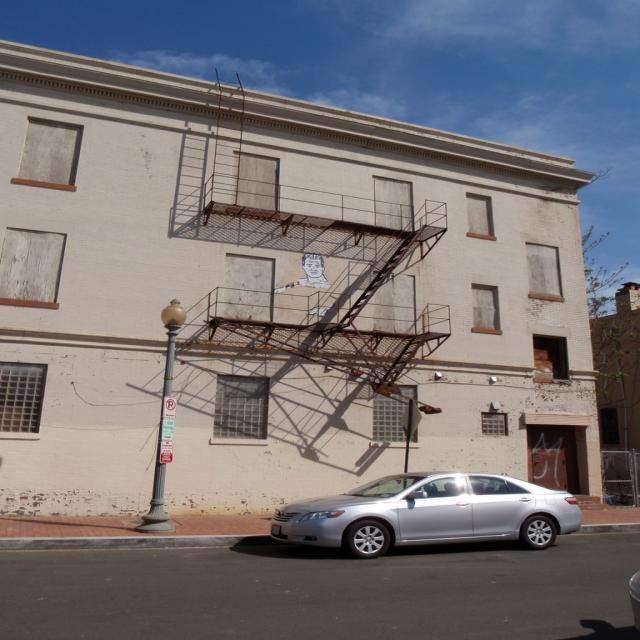car: (255, 471, 591, 554)
